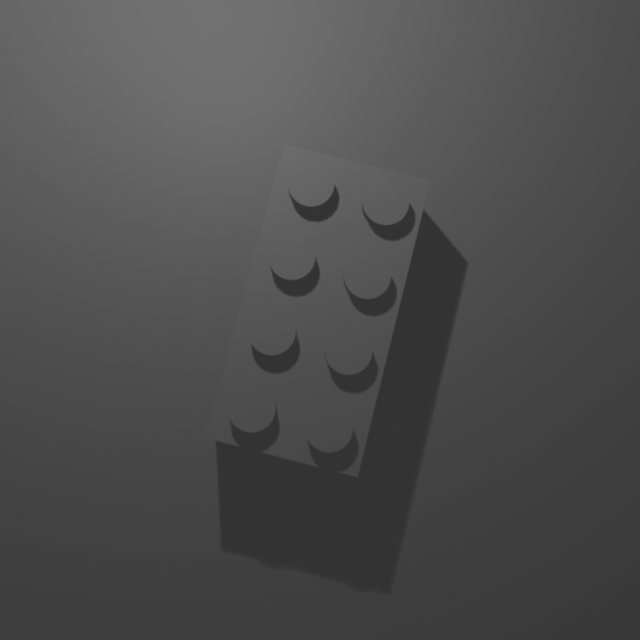lego_2x4: (203, 139, 432, 478)
